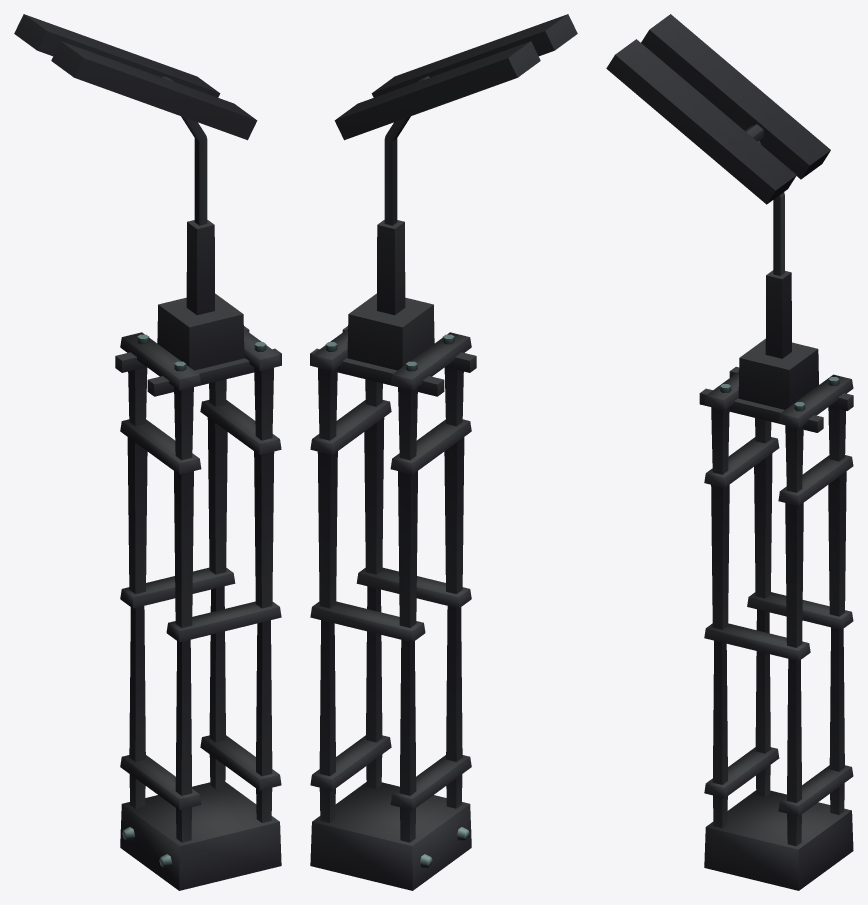
Rendered from Spotlight_Support_1A.fbx.
The picture shows the model from 3 angles, left to right: view 1: azimuth 30°, elevation 25°; view 2: azimuth 150°, elevation 25°; view 3: azimuth 330°, elevation 25°; orthographic projection. The views are drawn at different scales.
Visible parts, largest first — view 1: Spotlight_Support_1A, Spotlight_1A; view 2: Spotlight_Support_1A, Spotlight_1A; view 3: Spotlight_Support_1A, Spotlight_1A.
Boxes of the visible parts, <box> form: Spotlight_Support_1A: <box>115,76,281,890</box>; Spotlight_1A: <box>14,14,257,140</box>; Spotlight_Support_1A: <box>310,76,476,890</box>; Spotlight_1A: <box>334,14,577,140</box>; Spotlight_Support_1A: <box>699,124,853,890</box>; Spotlight_1A: <box>606,14,830,204</box>.
Size of the model in its own units: 5.44 by 20.42 by 2.6.
